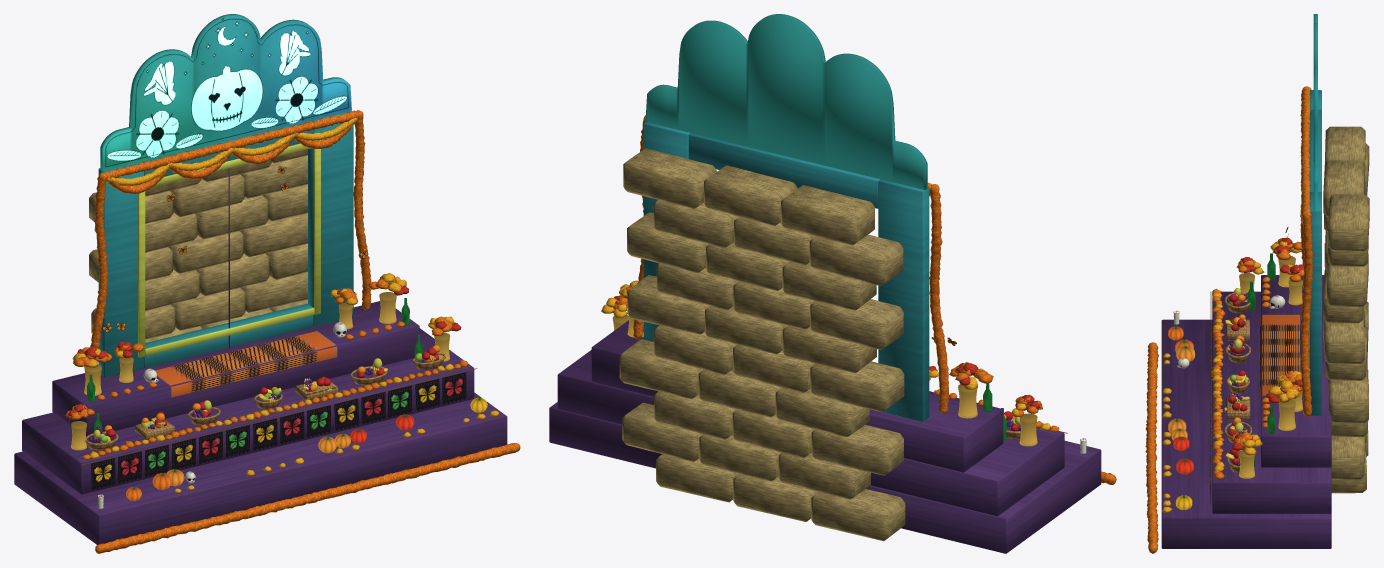
The model's file is ofrenda.glb.
3 renders of one model, left to right at view 1: azimuth 30°, elevation 25°; view 2: azimuth 150°, elevation 25°; view 3: azimuth 270°, elevation 25°, orthographic. The views are drawn at different scales.
Visible parts, largest first — view 1: ofrenda, crest; view 2: ofrenda, crest; view 3: ofrenda, crest.
Part boxes in pixels (x1,y1,x2,y2): ofrenda: (14, 110, 520, 553); crest: (100, 14, 351, 171); ofrenda: (549, 115, 1116, 553); crest: (645, 14, 927, 189); ofrenda: (1145, 86, 1369, 553); crest: (1313, 14, 1317, 210).
Size of the model in its own units: 5.61 by 5.41 by 2.58.
Materials: 6 (5 with a texture image).
